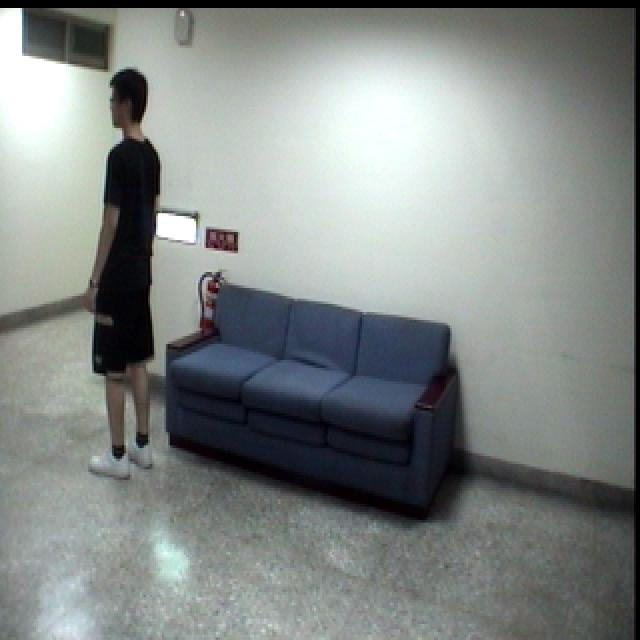stand: (75, 67, 168, 482)
